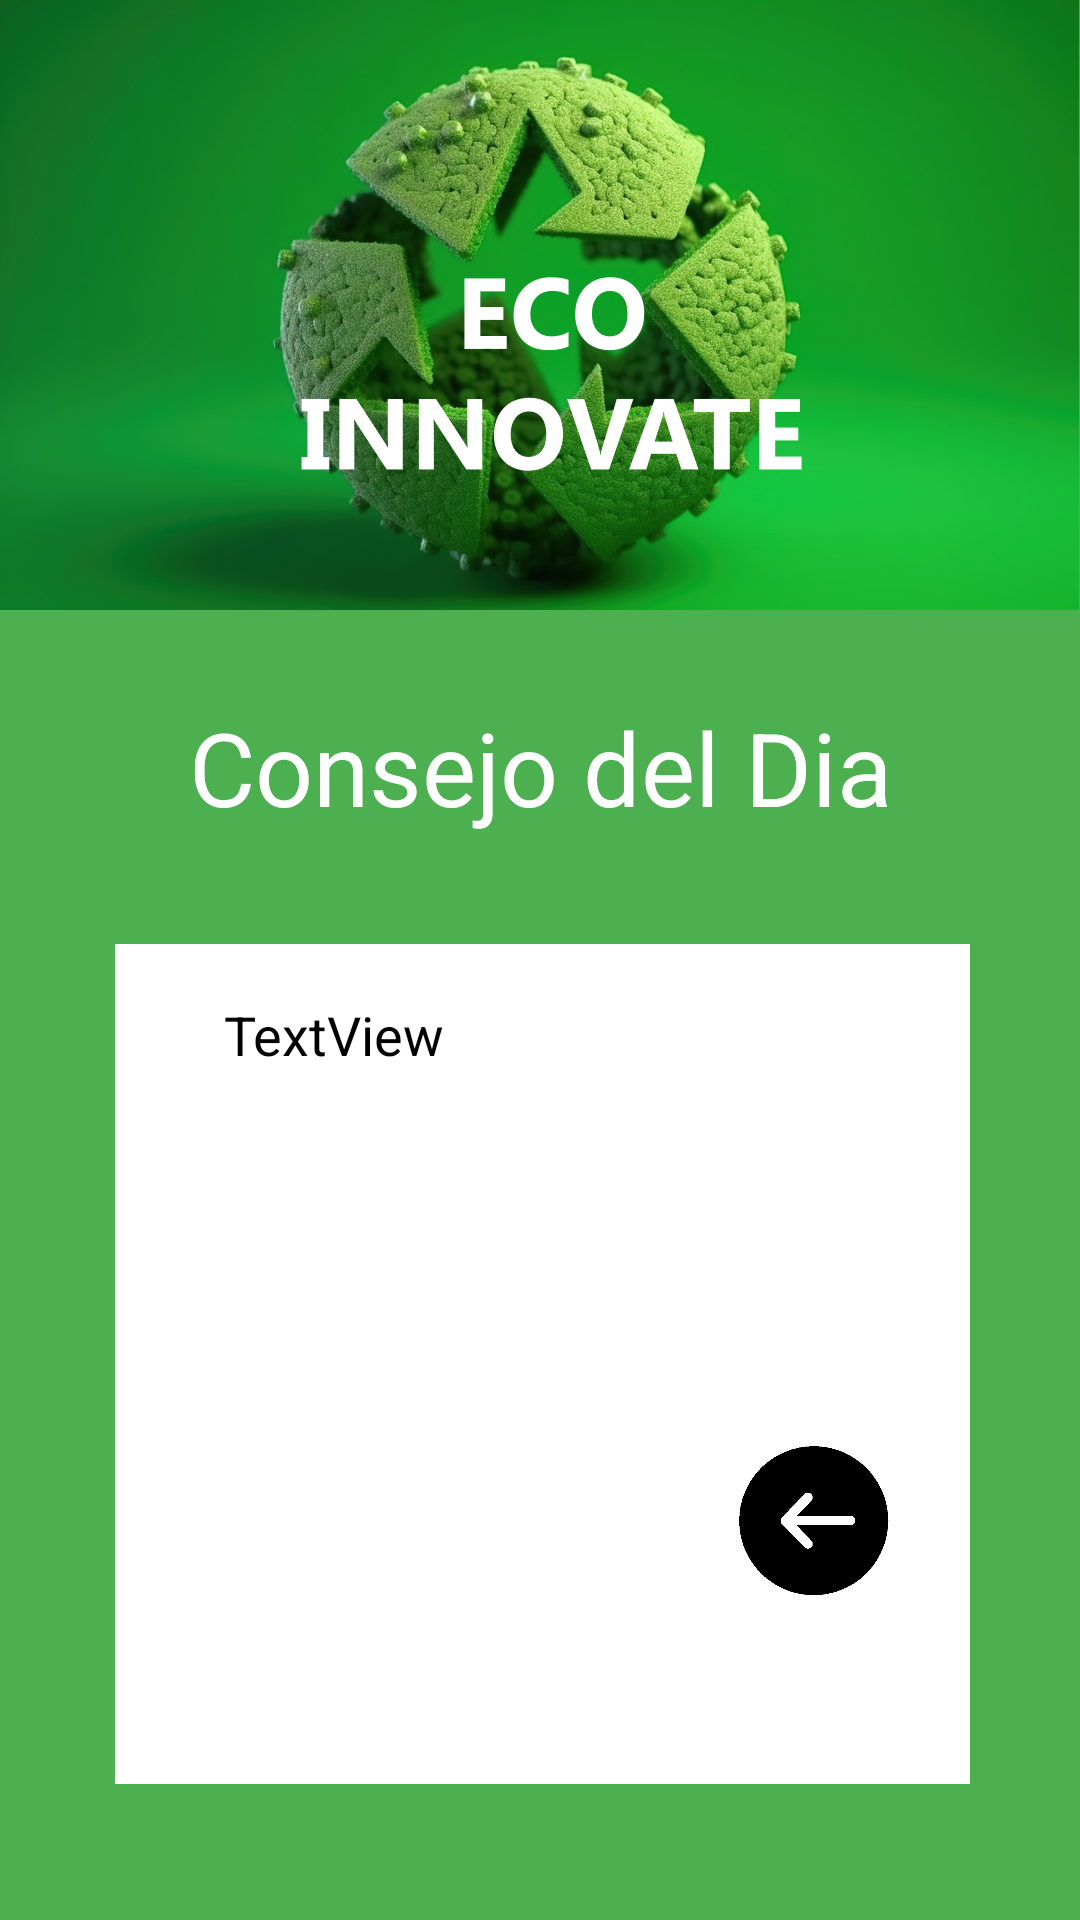

Screen size 1080×1920. Icon name, then its box in pixels as [x1,y1,x2,y2]:
flechanegro: [739,1446,889,1596]
